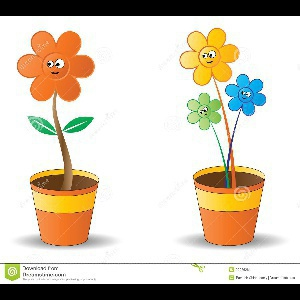flowerpot: (193, 164, 266, 245), (28, 167, 99, 245)
